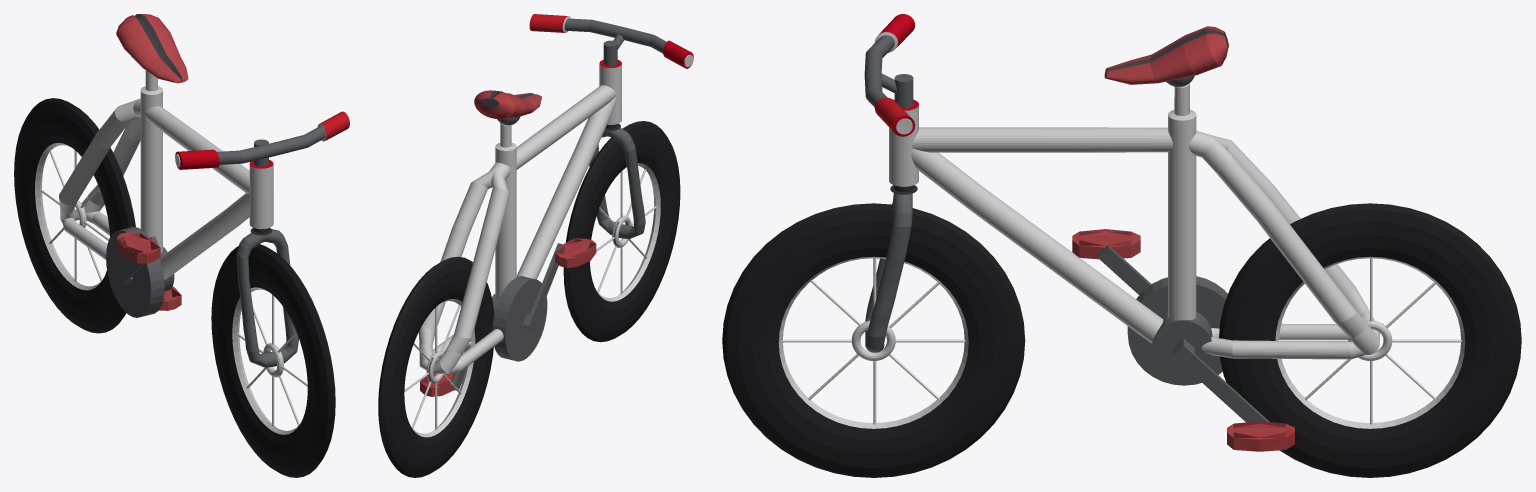
File: Bicicleta Hueso.fbx
3 renders of one model, left to right at view 1: azimuth 30°, elevation 25°; view 2: azimuth 150°, elevation 25°; view 3: azimuth 270°, elevation 25°, orthographic. The views are drawn at different scales.
Visible parts, largest first — view 1: Cuerpo, Llanta, Llanta.001, Bolante, PieDer, PedalDer, PieIz; view 2: Cuerpo, Llanta, Llanta.001, Bolante, PieDer, PedalDer, PieIz; view 3: Llanta, Cuerpo, Llanta.001, Bolante, PedalIz, PieIz, PieDer, PedalDer.
Boxes of the visible parts, box(x1,y1,x2,y2) form: Cuerpo: box(59, 14, 249, 317); Llanta: box(211, 244, 335, 477); Llanta.001: box(14, 98, 135, 333); Bolante: box(175, 111, 349, 367); PieDer: box(116, 232, 160, 263); PedalDer: box(117, 236, 158, 284); PieIz: box(158, 286, 181, 310); Cuerpo: box(418, 85, 616, 374); Llanta: box(563, 121, 680, 342); Llanta.001: box(378, 256, 494, 477); Bolante: box(529, 14, 693, 239); PieDer: box(555, 238, 596, 267); PedalDer: box(522, 243, 564, 330); PieIz: box(420, 373, 455, 396); Llanta: box(722, 203, 1025, 477); Cuerpo: box(911, 26, 1379, 385); Llanta.001: box(1219, 203, 1521, 477); Bolante: box(864, 14, 918, 352); PedalIz: box(1172, 338, 1269, 422); PieIz: box(1227, 421, 1294, 451); PieDer: box(1072, 229, 1140, 259); PedalDer: box(1097, 245, 1151, 294).
Bounding box in the file's own units: 156 × 313 × 507.
Materials: 6 (6 with a texture image).
